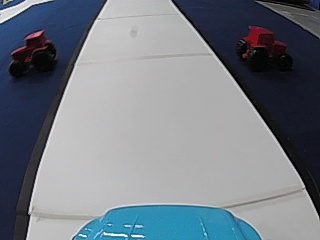tractor: (234, 24, 294, 72), (7, 28, 55, 77)
